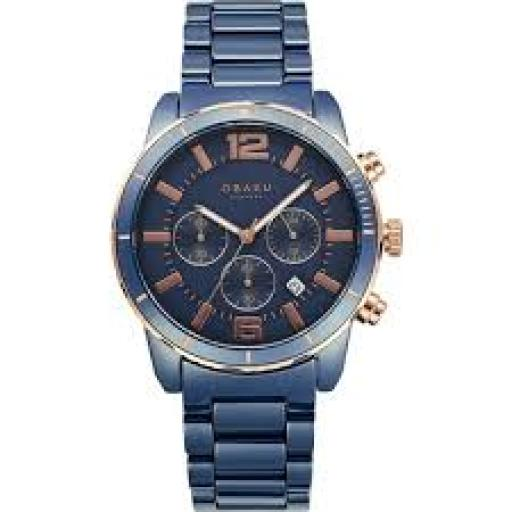KolSaati: (84, 0, 424, 512)
